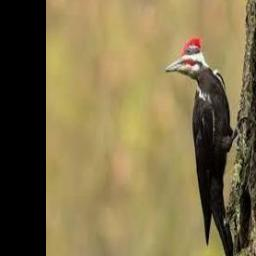Woodpecker: (166, 38, 250, 256)
